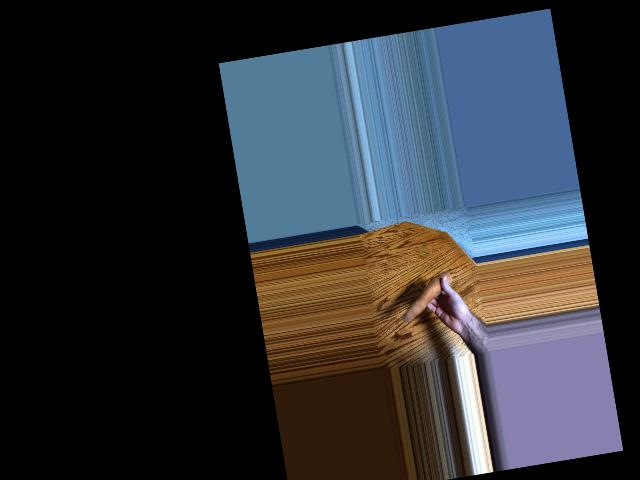sweet_potato: (396, 273, 457, 324)
